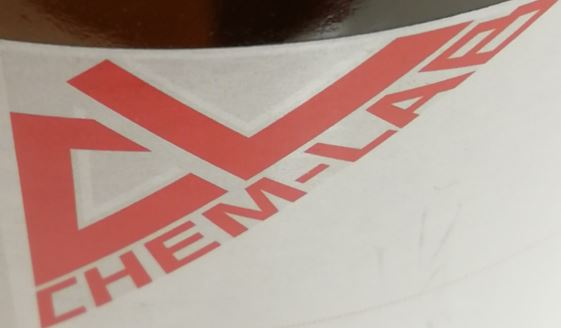ChemLab: (11, 1, 558, 326)
